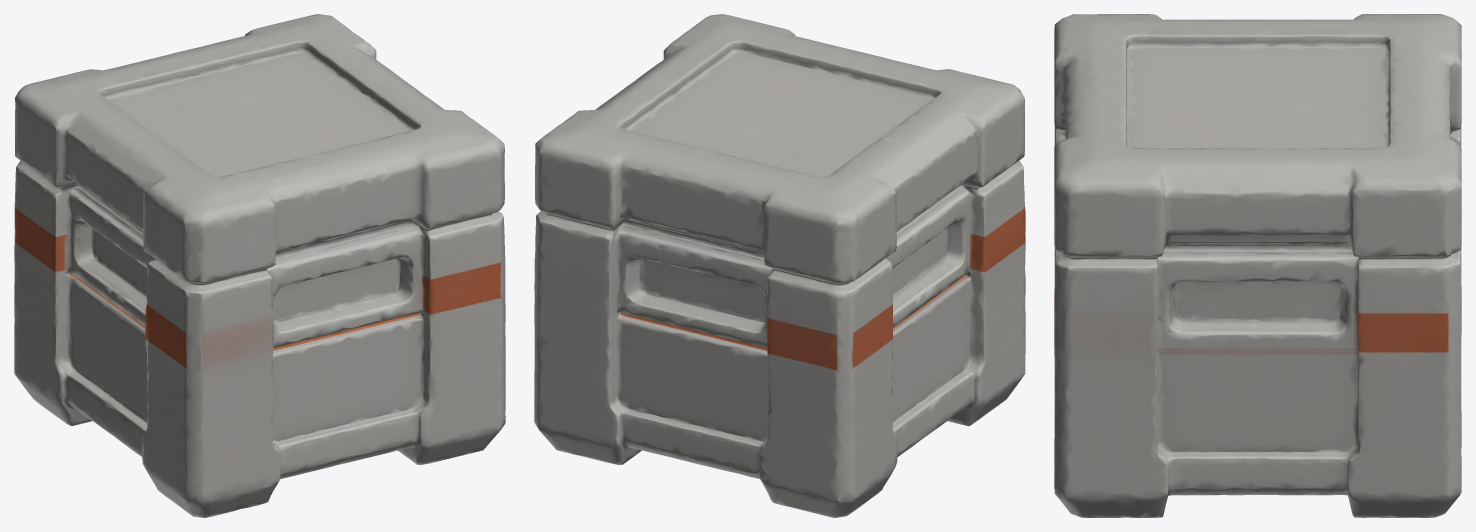
The model's file is tripo-output.glb.
3 renders of one model, left to right at view 1: azimuth 30°, elevation 25°; view 2: azimuth 150°, elevation 25°; view 3: azimuth 270°, elevation 25°, orthographic. The views are drawn at different scales.
Visible parts, largest first — view 1: tripo_node_a02a6608-d684-4477-aff1-911ceef7baff; view 2: tripo_node_a02a6608-d684-4477-aff1-911ceef7baff; view 3: tripo_node_a02a6608-d684-4477-aff1-911ceef7baff.
Part boxes in pixels (x1,y1,x2,y2): tripo_node_a02a6608-d684-4477-aff1-911ceef7baff: (14,14,505,517); tripo_node_a02a6608-d684-4477-aff1-911ceef7baff: (534,14,1025,517); tripo_node_a02a6608-d684-4477-aff1-911ceef7baff: (1054,14,1461,517).
Bounding box in the file's own units: 1 × 0.9373 × 0.9952.
1 material, 1 textured.
